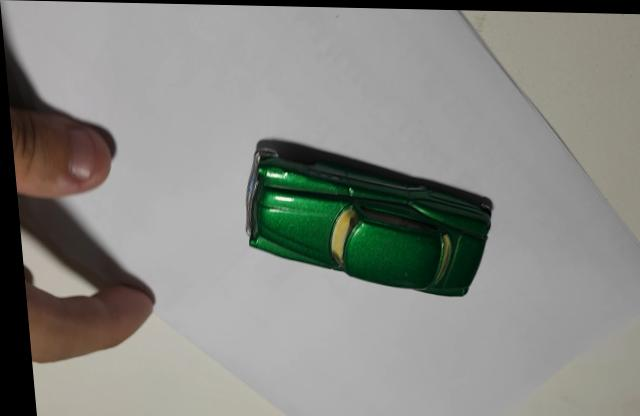06_MASERATI: (242, 136, 491, 294)
